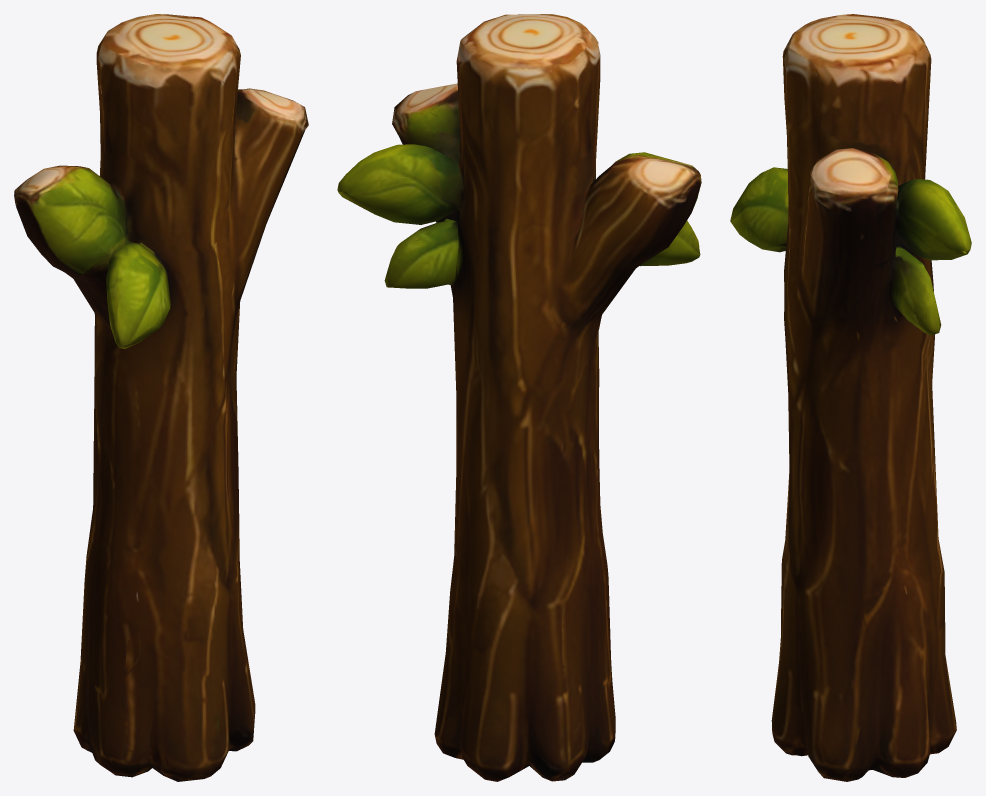
File: Branch.glb
The picture shows the model from 3 angles, left to right: view 1: azimuth 30°, elevation 25°; view 2: azimuth 150°, elevation 25°; view 3: azimuth 270°, elevation 25°; orthographic projection.
Size of the model in its own units: 0.8509 by 1.99 by 0.6076.
Materials: 1 (1 with a texture image).
